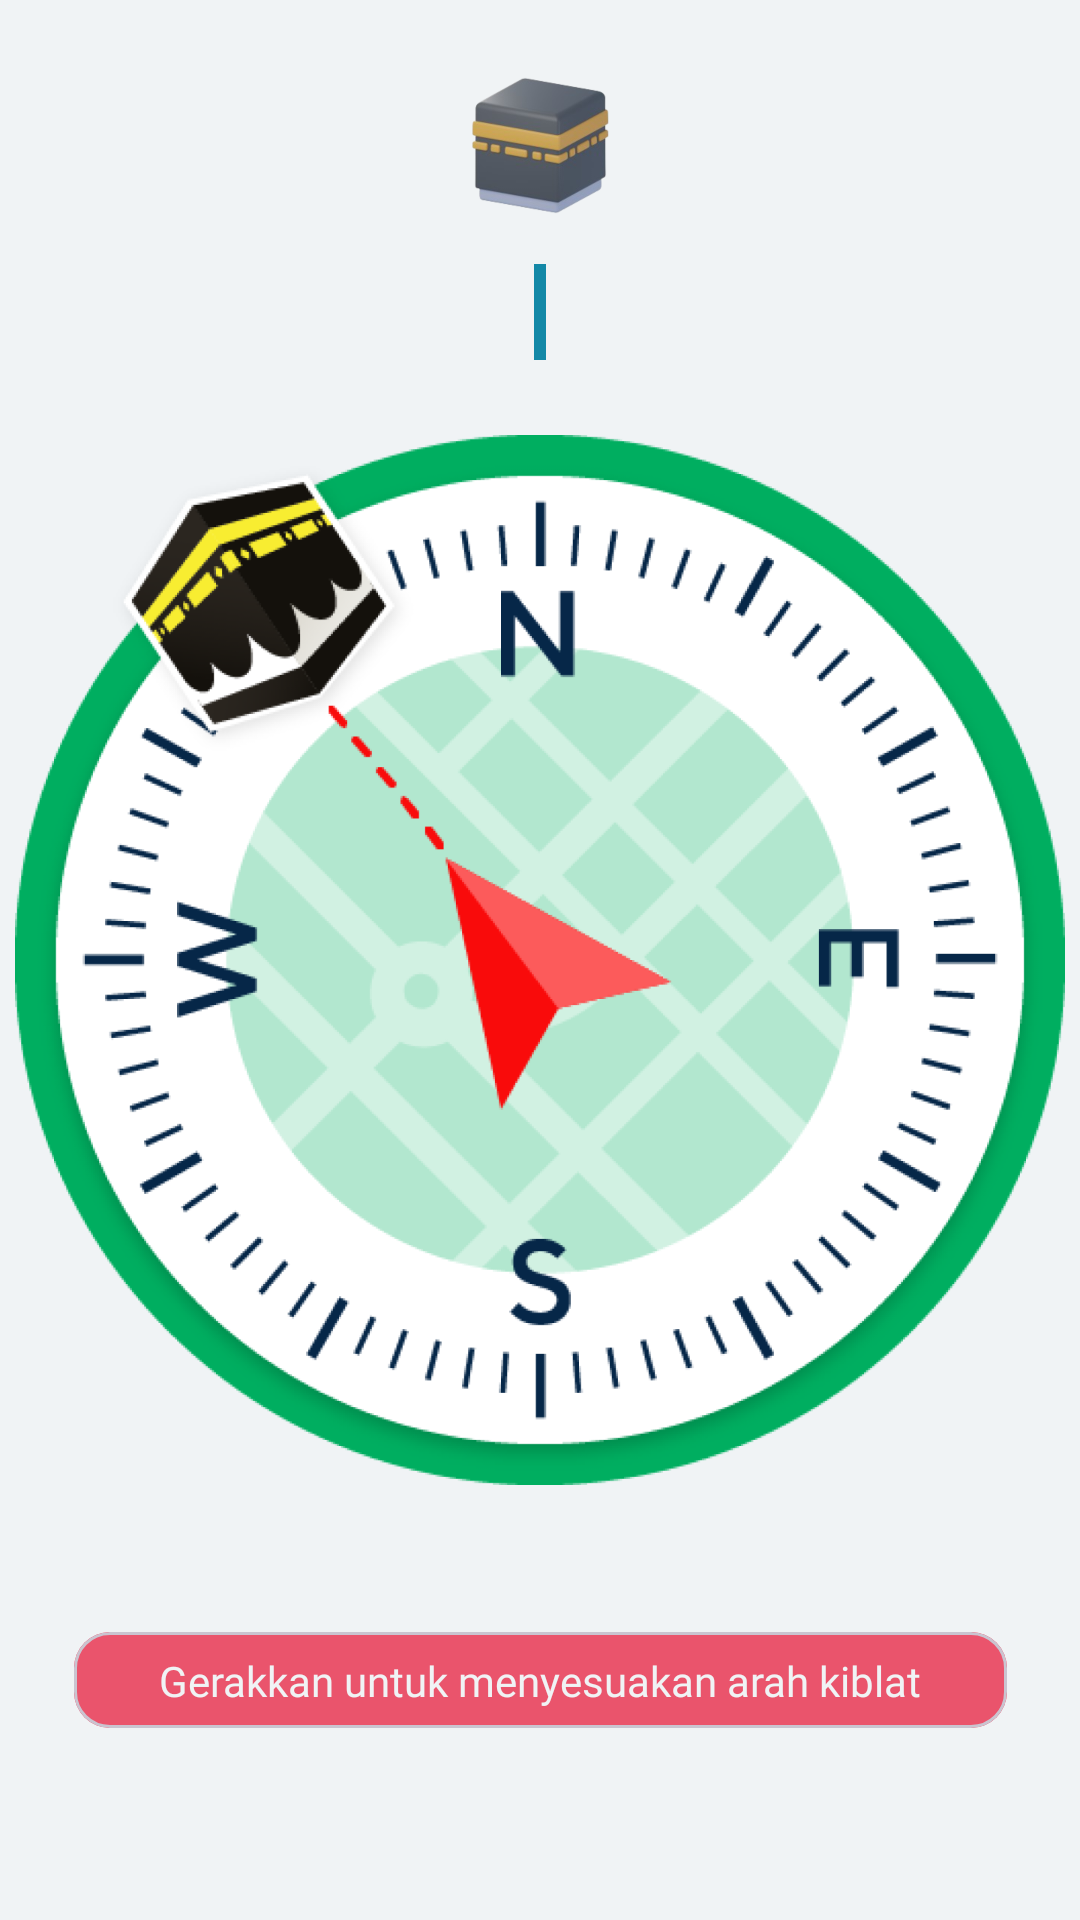

Point at icon controls on the screen. Image size 1080*1920, points as point (x, y).
kabah: point (540, 145)
